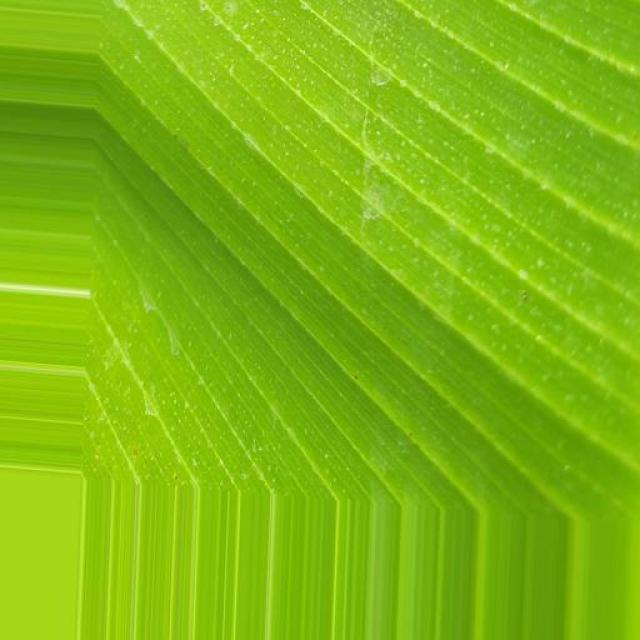Black_leaf_spot: (55, 5, 631, 499)
